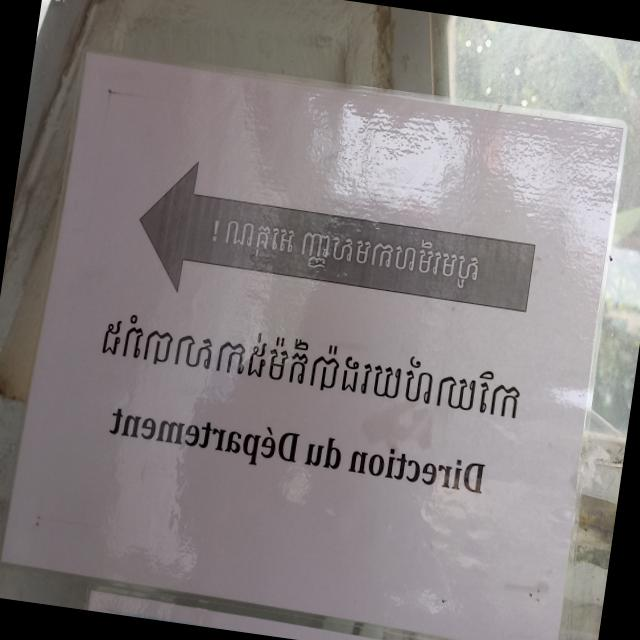1: (215, 200, 487, 300)
Yolov11kh: (90, 297, 535, 436)
